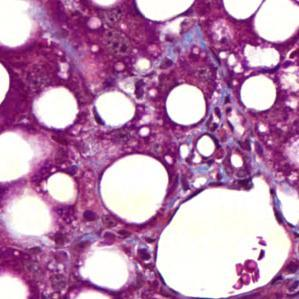steatosis: (100, 157, 169, 221), (165, 86, 209, 127), (34, 90, 80, 129), (237, 73, 278, 116), (96, 89, 137, 131)
